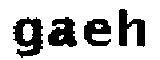a: (46, 16, 78, 48)
e: (81, 16, 113, 48)
g: (8, 15, 44, 60)
h: (116, 4, 151, 51)
